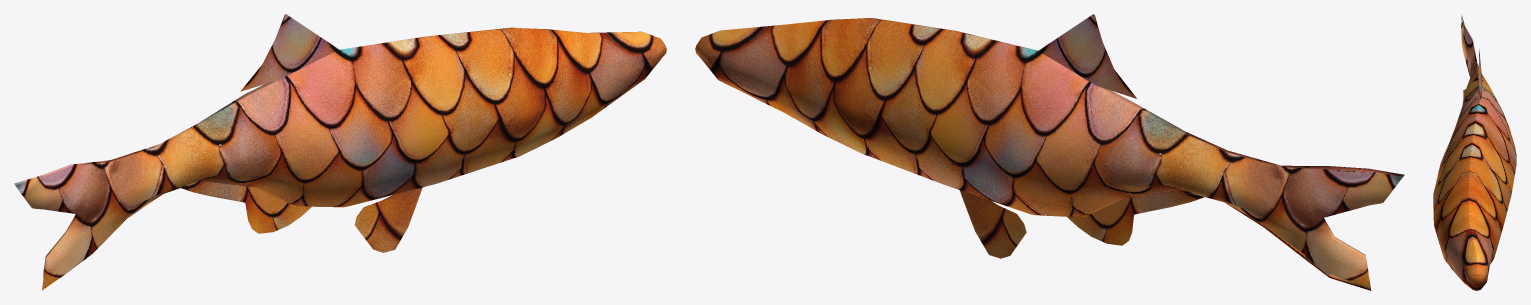
File: fish2.obj
3 renders of one model, left to right at view 1: azimuth 30°, elevation 25°; view 2: azimuth 150°, elevation 25°; view 3: azimuth 270°, elevation 25°, orthographic. The views are drawn at different scales.
Visible parts, largest first — view 1: Plane.040; view 2: Plane.040; view 3: Plane.040.
Boxes of the visible parts, x1,y1,x2,y2 form: Plane.040: (14,14,666,290); Plane.040: (695,14,1404,290); Plane.040: (1433,15,1516,290).
Size of the model in its own units: 0.3497 by 0.1309 by 0.0513.
